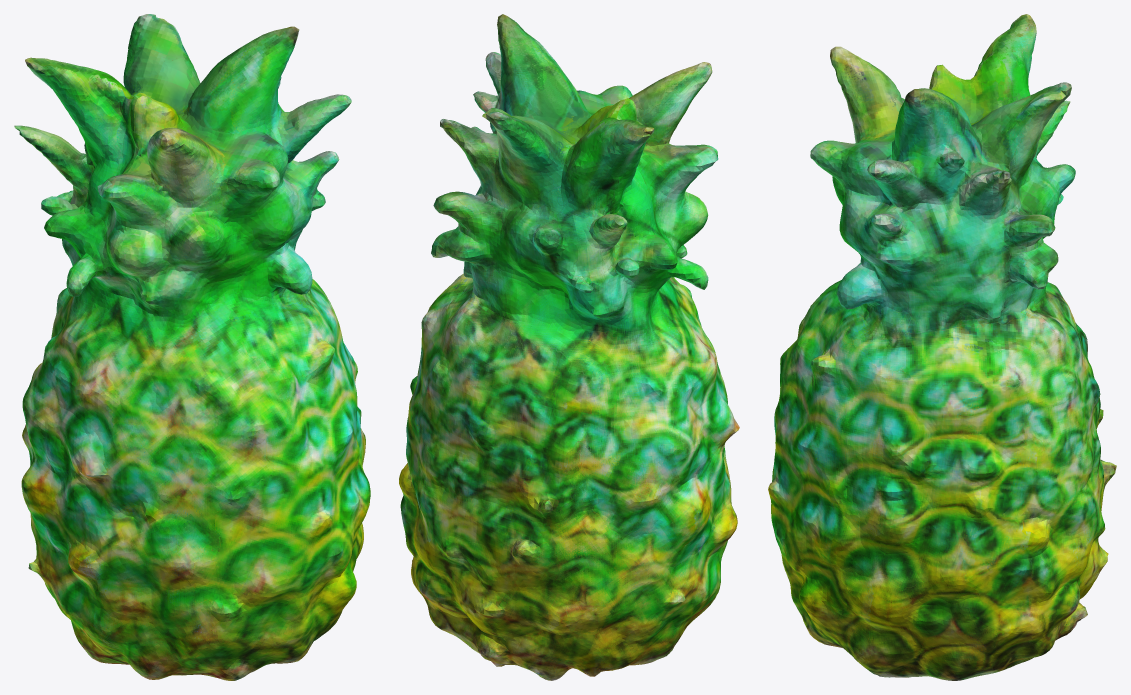
Rendered from pineapple.glb.
3 renders of one model, left to right at view 1: azimuth 30°, elevation 25°; view 2: azimuth 150°, elevation 25°; view 3: azimuth 270°, elevation 25°, orthographic. The views are drawn at different scales.
Bounding box in the file's own units: 1.06 × 2.07 × 1.1.
1 material, 1 textured.
